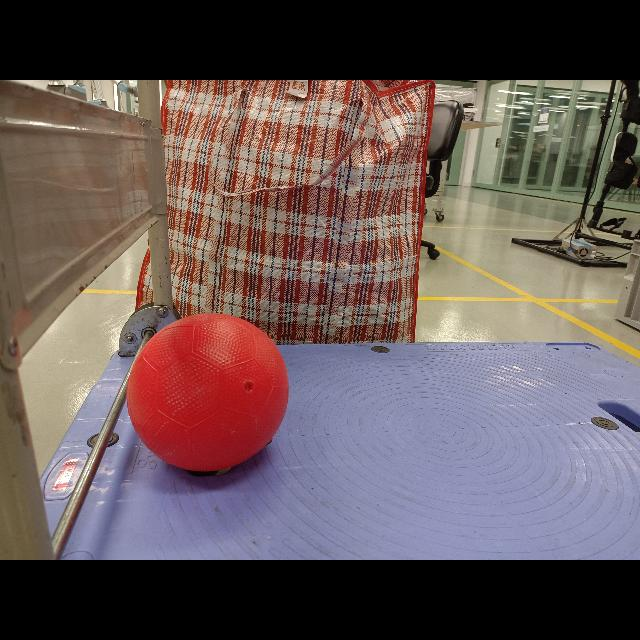R: (128, 315, 288, 475)
